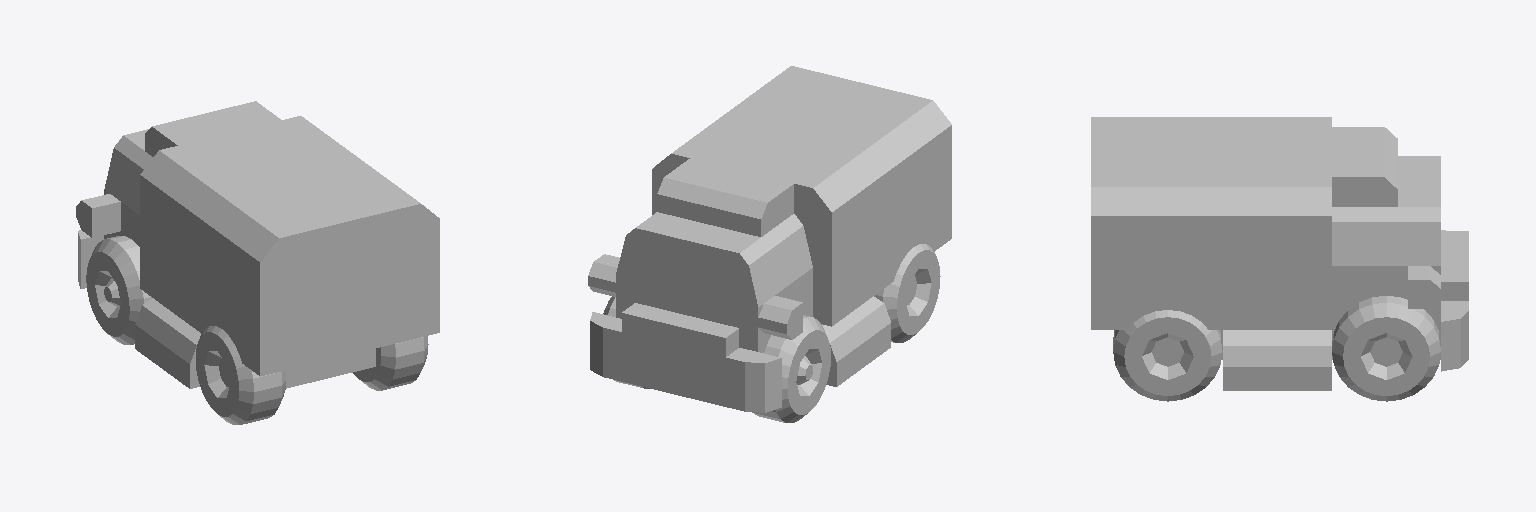
Rendered from vehicle-truck.obj.
3 renders of one model, left to right at view 1: azimuth 30°, elevation 25°; view 2: azimuth 150°, elevation 25°; view 3: azimuth 270°, elevation 25°, orthographic.
Visible parts, largest first — view 1: vehicle-truck, wheel-bl, wheel-fl, wheel-br; view 2: vehicle-truck, wheel-fl, wheel-bl; view 3: vehicle-truck, wheel-fr, wheel-br.
Part boxes in pixels (bbox=[...]): vehicle-truck: bbox=[76, 101, 439, 388]; wheel-bl: bbox=[196, 326, 285, 424]; wheel-fl: bbox=[86, 236, 151, 344]; wheel-br: bbox=[353, 336, 428, 390]; vehicle-truck: bbox=[588, 66, 951, 412]; wheel-fl: bbox=[752, 315, 830, 422]; wheel-bl: bbox=[874, 244, 940, 342]; vehicle-truck: bbox=[1091, 117, 1468, 390]; wheel-fr: bbox=[1332, 296, 1440, 401]; wheel-br: bbox=[1113, 310, 1222, 401].
Size of the model in its own units: 0.525 by 0.525 by 0.8625.